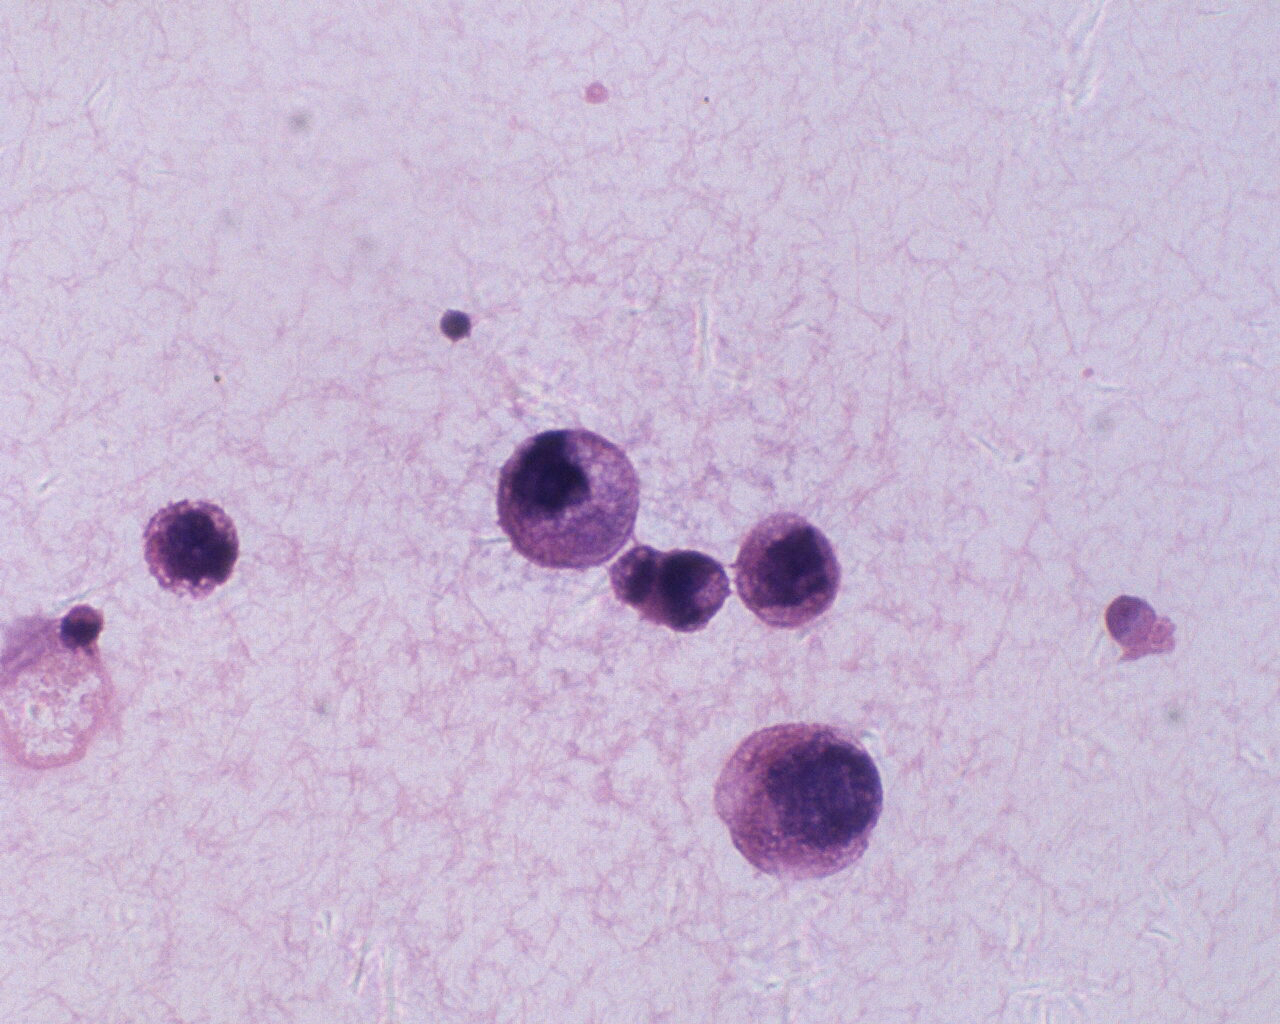ab: (715, 718, 885, 882), (488, 426, 641, 571), (735, 507, 844, 630), (142, 491, 245, 605), (654, 543, 734, 637)
